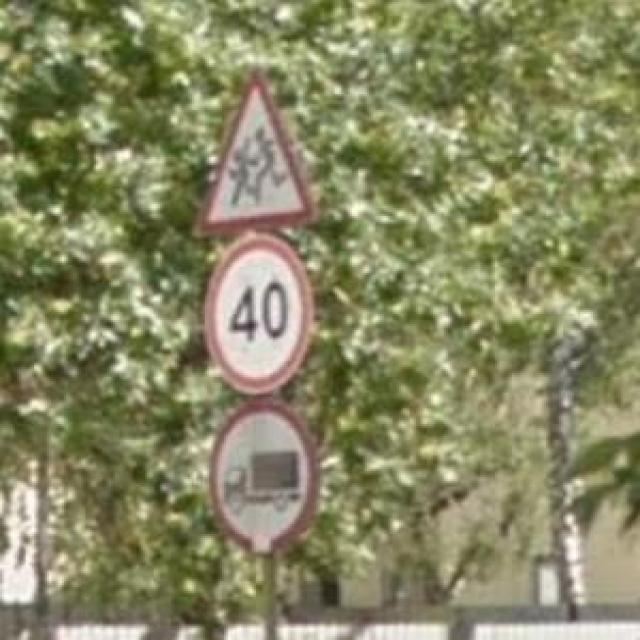Ograniczenie predkosci do 40: (202, 232, 314, 396)
